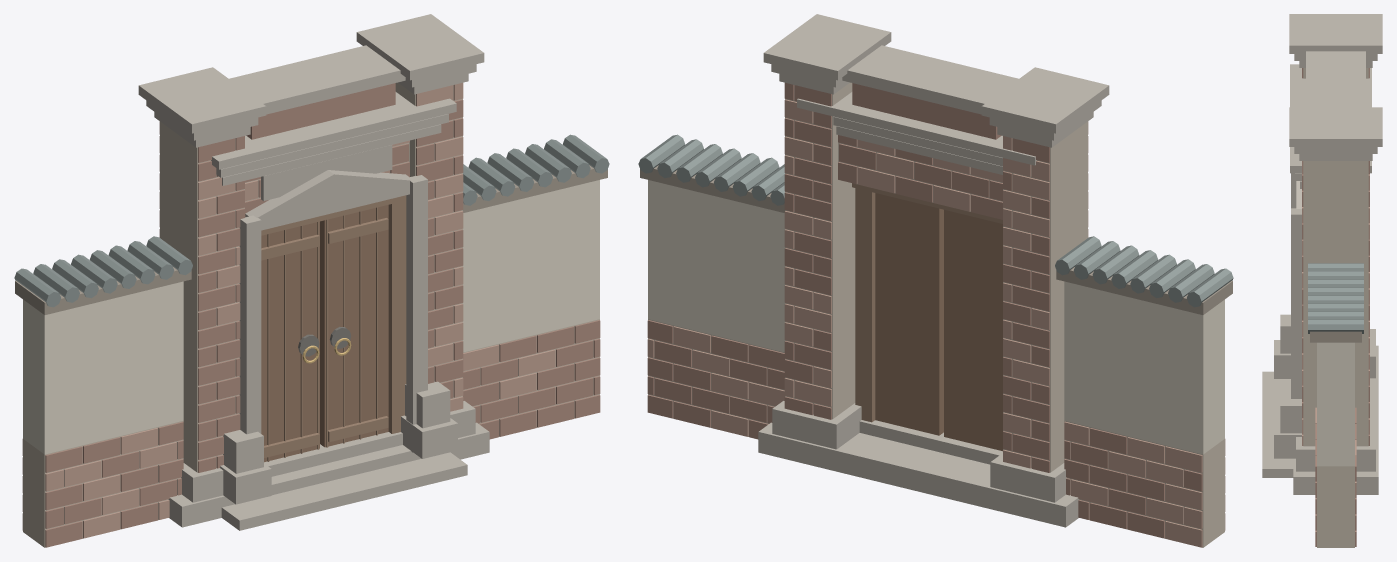
File: Western_Gate.glb
3 renders of one model, left to right at view 1: azimuth 30°, elevation 25°; view 2: azimuth 150°, elevation 25°; view 3: azimuth 270°, elevation 25°, orthographic. The views are drawn at different scales.
Visible parts, largest first — view 1: Jinzhu Gate; view 2: Jinzhu Gate; view 3: Jinzhu Gate.
Boxes of the visible parts, x1=… form: Jinzhu Gate: x1=14, y1=14, x2=609, y2=547; Jinzhu Gate: x1=638, y1=14, x2=1233, y2=547; Jinzhu Gate: x1=1262, y1=14, x2=1382, y2=547.
Size of the model in its own units: 5.68 by 3.88 by 1.2.
